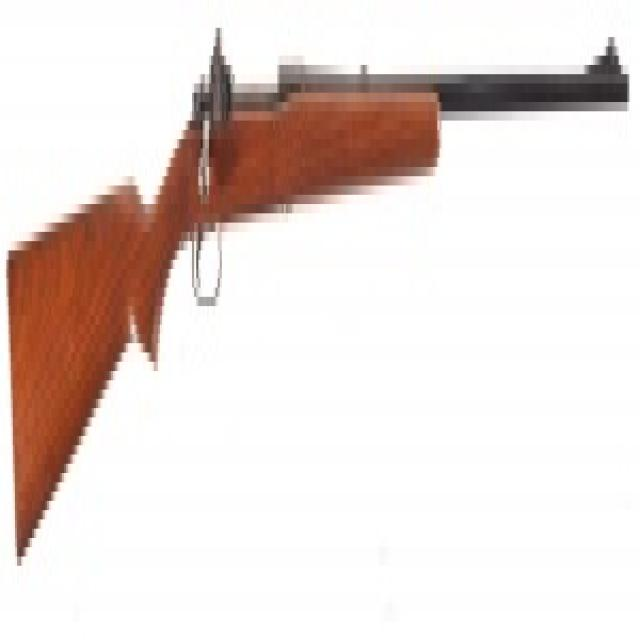rifle: (6, 18, 637, 583)
